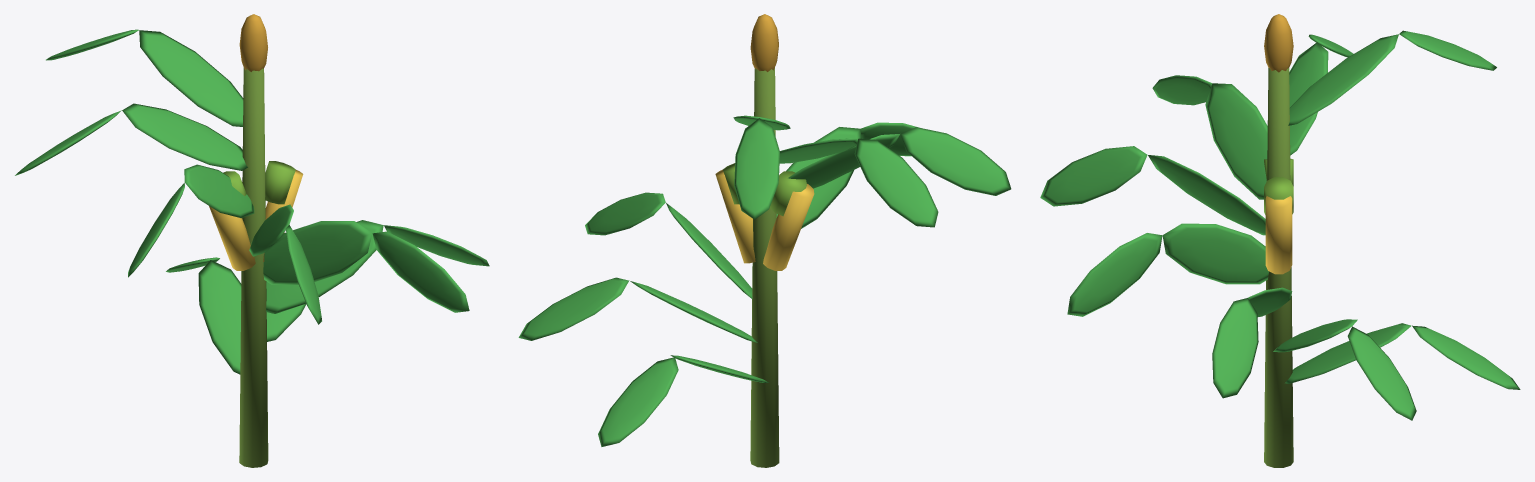
3 views of the same model, side by side, from view 1: azimuth 30°, elevation 25°; view 2: azimuth 150°, elevation 25°; view 3: azimuth 270°, elevation 25° (orthographic).
Parts seen in each view (by area): view 1: Leaf.001, Stem.001, Fruit.001; view 2: Leaf.001, Stem.001, Fruit.001; view 3: Leaf.001, Stem.001, Fruit.001.
Part boxes in pixels (x1,y1,x2,y2): Leaf.001: (15,29,489,374); Stem.001: (239,67,268,467); Fruit.001: (209,14,303,270); Leaf.001: (518,115,1011,446); Stem.001: (750,68,779,467); Fruit.001: (715,14,814,270); Leaf.001: (1040,30,1520,420); Stem.001: (1264,67,1293,467); Fruit.001: (1264,14,1293,274).
Size of the model in its own units: 1.61 by 1.67 by 1.62.
